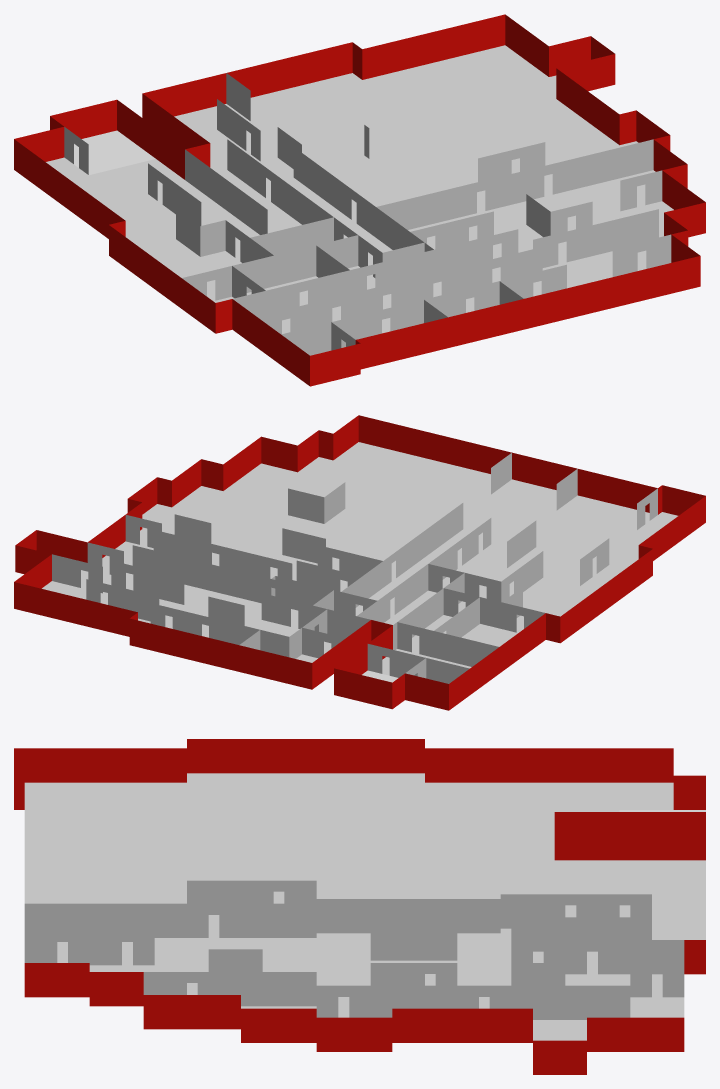
File: LastMapMouseGame2.glb
The picture shows the model from 3 angles, top to bottom: view 1: azimuth 30°, elevation 25°; view 2: azimuth 150°, elevation 25°; view 3: azimuth 270°, elevation 25°; orthographic projection. The views are drawn at different scales.
Parts seen in each view (by area): view 1: insides, backupmap.003, floor.017, floor.057, floor.046, floor.019, floor.018, floor.026, floor.013, floor.050, floor.020, floor.033 (+25 smaller); view 2: insides, backupmap.003, floor.046, floor.045, floor.044, floor.005, floor.033, floor.009, floor.041, floor.007, floor.002, floor.034 (+15 smaller); view 3: backupmap.003, insides, floor.033, floor.044, floor.045, floor.030, floor.050, floor.046, floor.029, floor.034, floor.025, floor.041 (+20 smaller).
Boxes of the visible parts, box(x1,y1,x2,y2) form: insides: box(64, 73, 671, 355); backupmap.003: box(14, 14, 705, 386); floor.017: box(369, 116, 547, 172); floor.057: box(404, 45, 548, 91); floor.046: box(460, 186, 627, 264); floor.019: box(250, 73, 376, 121); floor.018: box(335, 91, 439, 146); floor.026: box(70, 159, 189, 204); floor.013: box(387, 77, 499, 118); floor.050: box(104, 194, 175, 247); floor.020: box(246, 111, 335, 161); floor.033: box(141, 239, 241, 301); insides: box(52, 453, 657, 683); backupmap.003: box(14, 415, 705, 710); floor.046: box(230, 475, 402, 548); floor.045: box(412, 480, 652, 551); floor.044: box(390, 496, 638, 568); floor.005: box(359, 454, 453, 501); floor.033: box(516, 577, 595, 632); floor.009: box(172, 486, 259, 521); floor.041: box(202, 516, 346, 560); floor.007: box(294, 457, 383, 491); floor.002: box(557, 495, 649, 530); floor.034: box(507, 547, 596, 586); backupmap.003: box(14, 739, 705, 1074); insides: box(24, 880, 684, 1019); floor.033: box(262, 773, 424, 823); floor.044: box(133, 782, 186, 903); floor.045: box(79, 782, 132, 903); floor.030: box(208, 869, 500, 892); floor.050: box(425, 782, 543, 823); floor.046: box(154, 938, 316, 994); floor.029: box(370, 846, 554, 869); floor.034: box(187, 800, 262, 846); floor.025: box(619, 860, 705, 905); floor.041: box(316, 933, 370, 1017).
Size of the model in its own units: 66 by 3.5 by 64.
